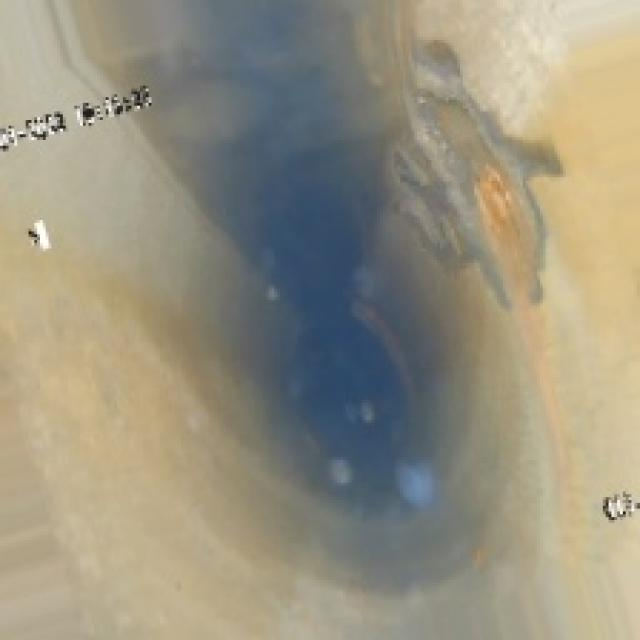pipe_surface_damage: (386, 37, 548, 317)
